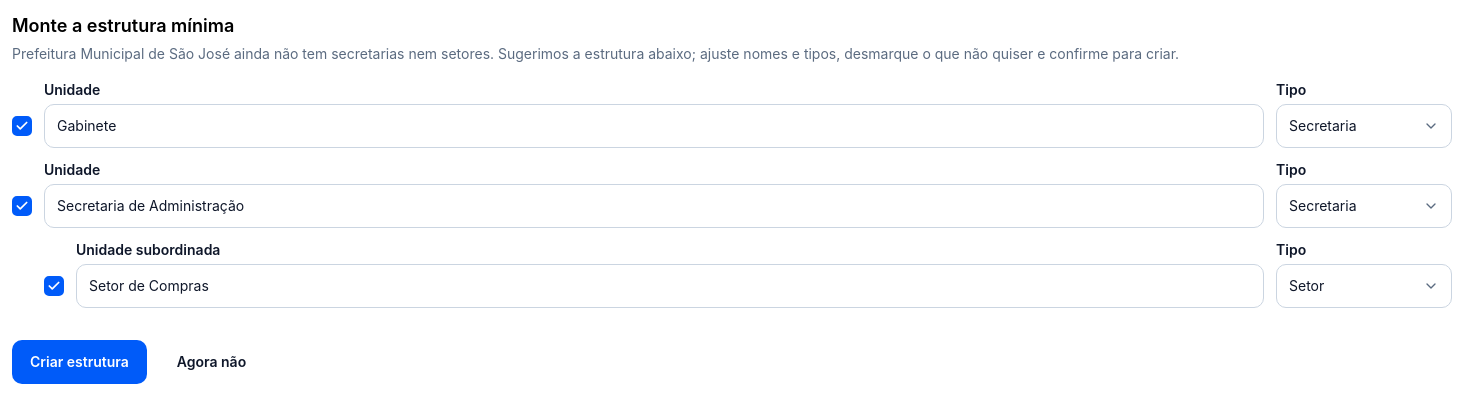
Test: ImplementationAssistant (SCR-032 · US-099) › cria as unidades editadas com uma chave por unidade, anuncia o progresso e mostra os primeiros passos
Replace the text in the 1st field showing "Gabinete" with "Gabinete do Prefeito" at [654, 126], box [44,104,1264,148]
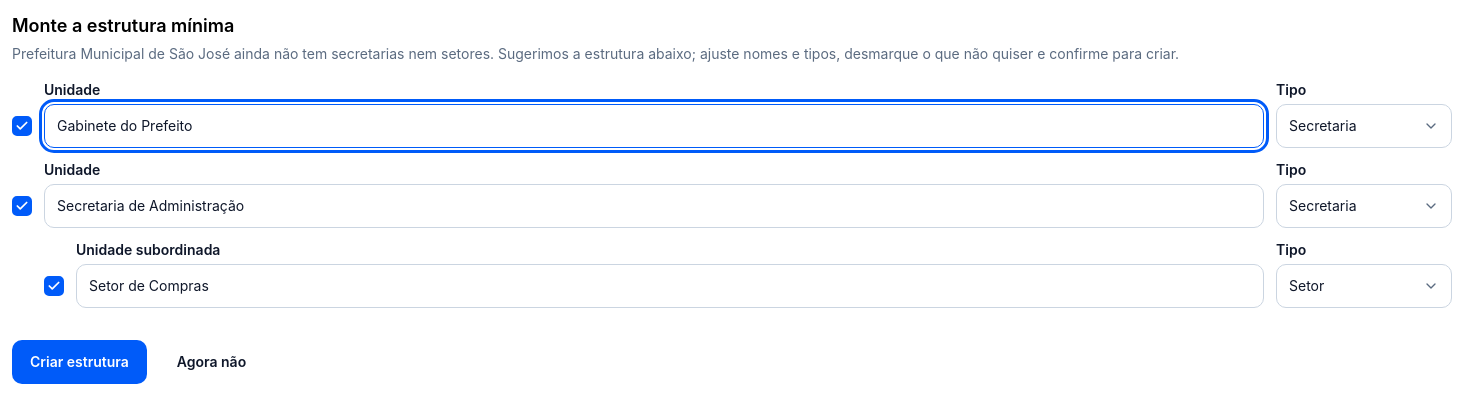
Click the button "Criar estrutura" at [79, 362], box [12,340,147,384]
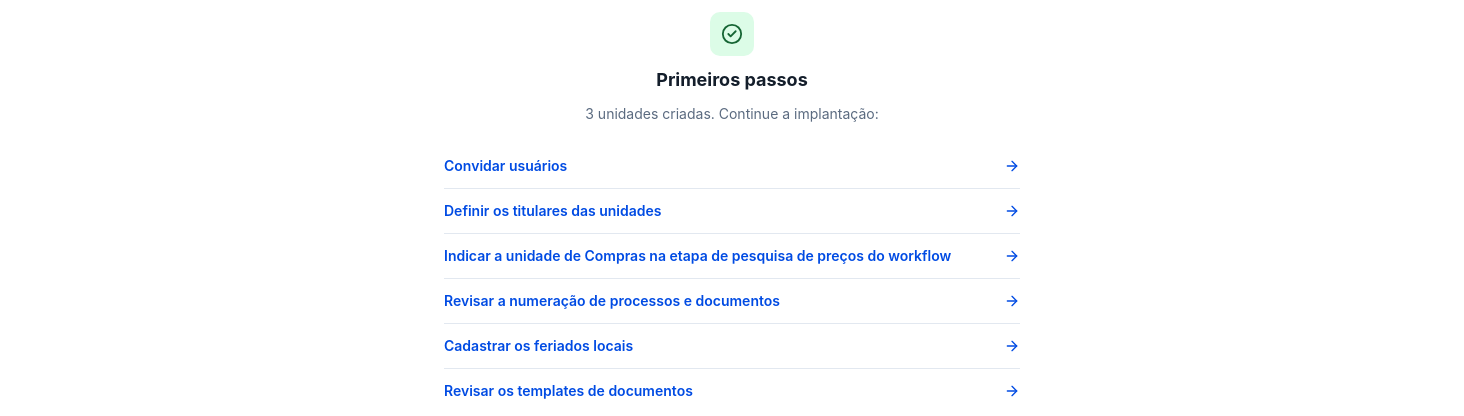
Now the text "3 unidades criadas. Continue a implantação:" is shown, box [585,104,879,124]
